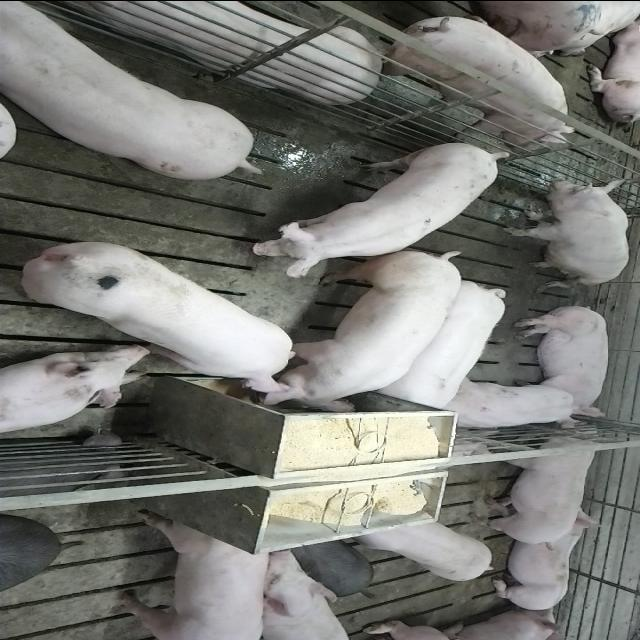Feeding: (18, 238, 300, 400), (248, 252, 466, 418)
Lateral_lying: (512, 302, 612, 418)
Sitting: (503, 176, 633, 286)
Standing: (1, 0, 260, 176), (244, 137, 508, 273), (373, 9, 578, 145), (120, 511, 270, 638), (376, 279, 513, 411), (468, 423, 608, 546), (352, 515, 498, 583), (261, 548, 353, 640), (287, 536, 376, 598)
Sternal_lying: (40, 0, 381, 100), (0, 346, 152, 437), (485, 514, 607, 612), (441, 380, 591, 432)
